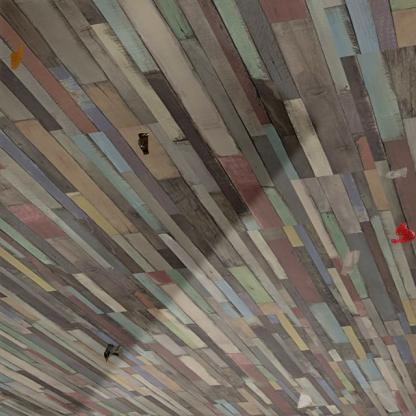dirty: (296, 384, 318, 416), (339, 248, 362, 276), (102, 339, 126, 365), (136, 130, 151, 156), (385, 166, 408, 180)
liquid: (390, 221, 415, 245), (10, 45, 22, 69)
